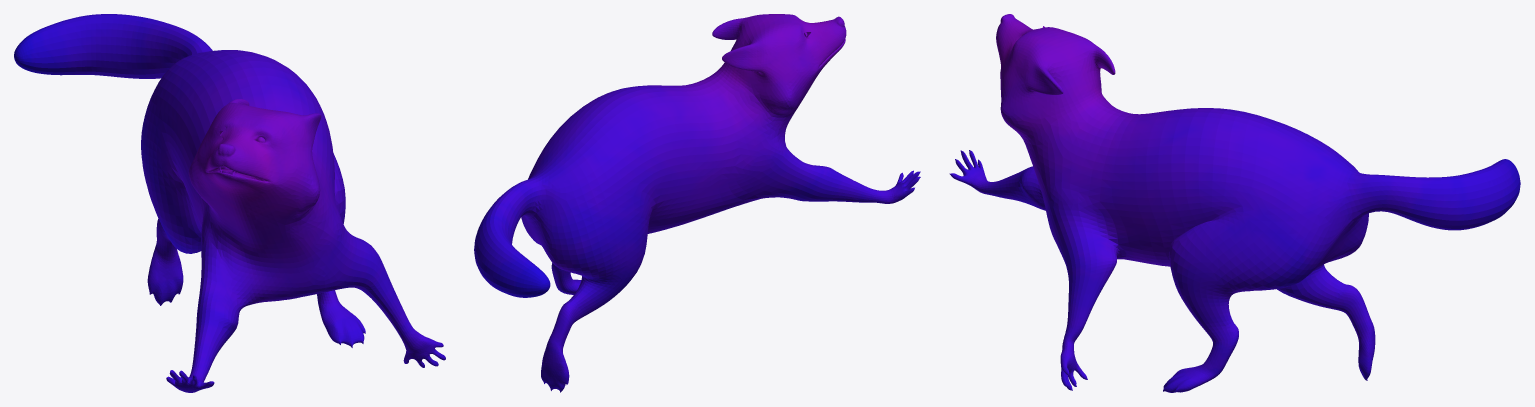
The model's file is pred.glb.
The picture shows the model from 3 angles, left to right: view 1: azimuth 30°, elevation 25°; view 2: azimuth 150°, elevation 25°; view 3: azimuth 270°, elevation 25°; orthographic projection. The views are drawn at different scales.
Bounding box in the file's own units: 0.3733 × 0.3728 × 0.6345.
